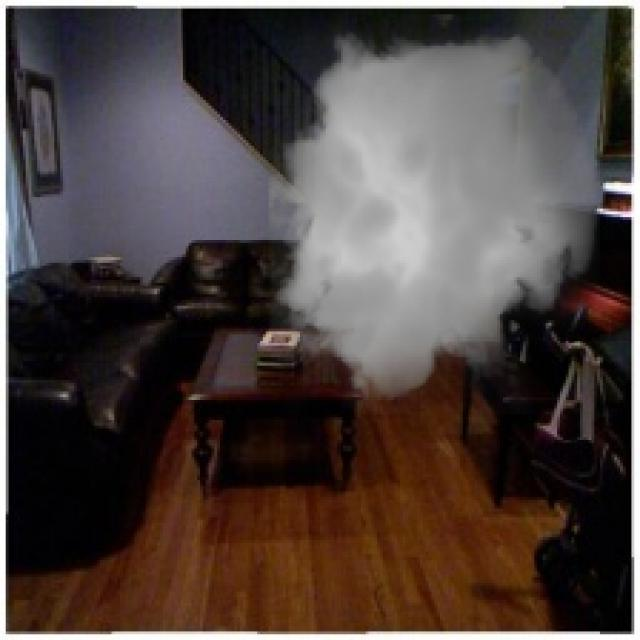Smoke: (254, 14, 612, 414)
